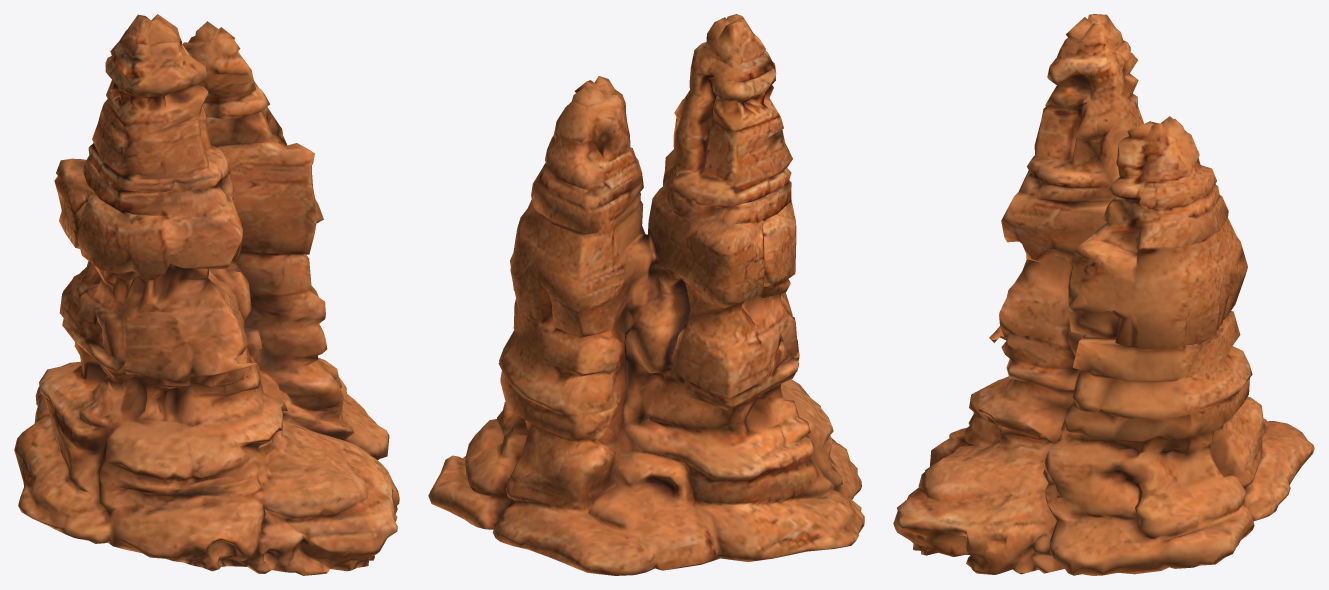
Rendered from spire_1.gltf.
3 renders of one model, left to right at view 1: azimuth 30°, elevation 25°; view 2: azimuth 150°, elevation 25°; view 3: azimuth 270°, elevation 25°, orthographic. The views are drawn at different scales.
Parts seen in each view (by area): view 1: spire_1; view 2: spire_1; view 3: spire_1.
Part boxes in pixels (x1=…): spire_1: x1=14, y1=14, x2=399, y2=575; spire_1: x1=428, y1=14, x2=864, y2=575; spire_1: x1=893, y1=14, x2=1314, y2=575.
Bounding box in the file's own units: 41.6 × 56.71 × 45.36.
1 material, 1 textured.
